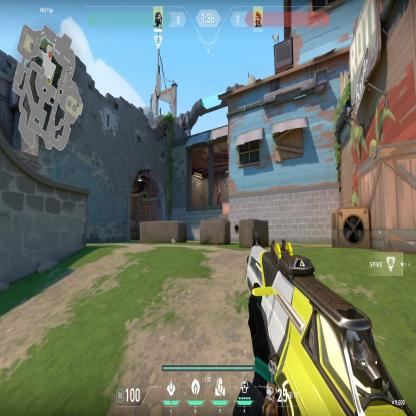enemy: (216, 184, 221, 205)
